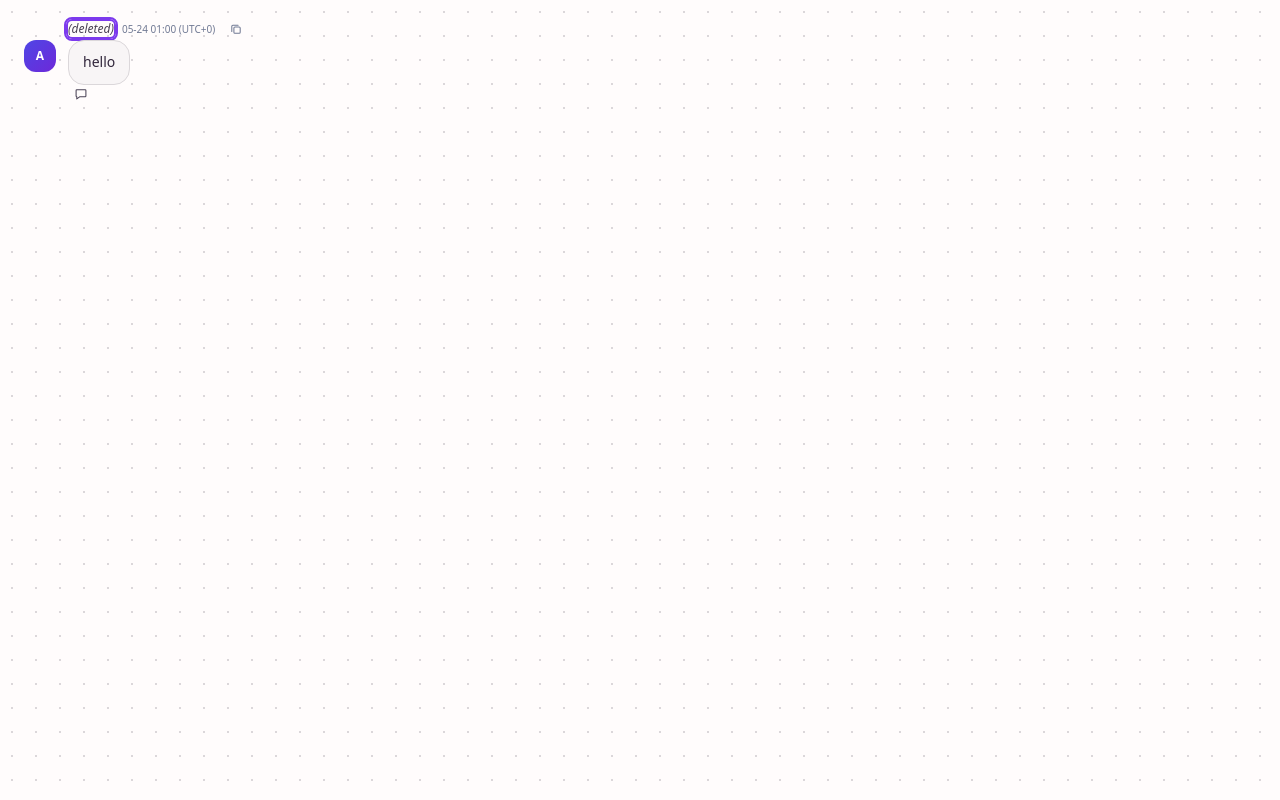
Test: MessageList sender-detail sidebar (increment 2) › opening via keyboard (Enter on the name button) opens the sidebar
Press Enter in the button with test id "message-sender-button", box top-left (68, 21), bottom-right (114, 37)
Click the button with test id "message-sender-button": point(91, 29) top-left (68, 21), bottom-right (114, 37)
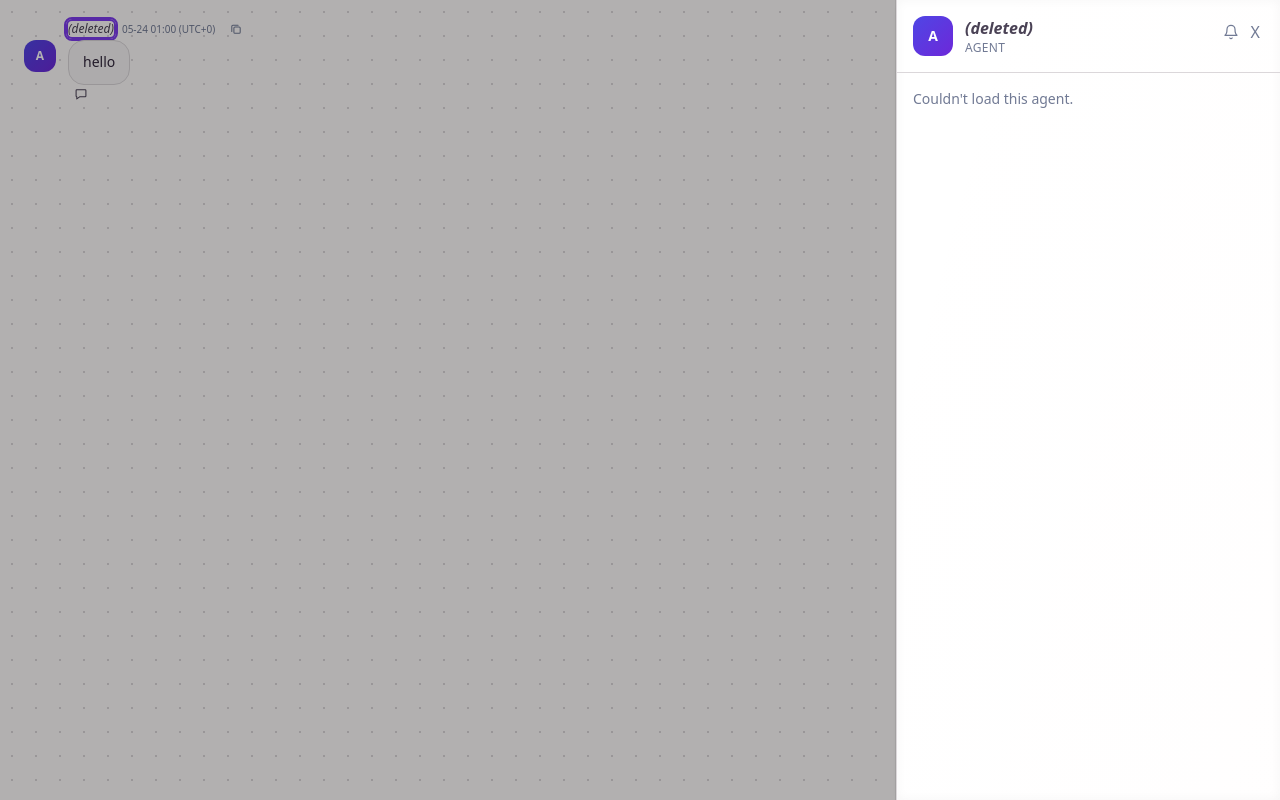
expect the dialog with test id "sender-sidebar" is shown: met, box top-left (896, 0), bottom-right (1279, 799)
